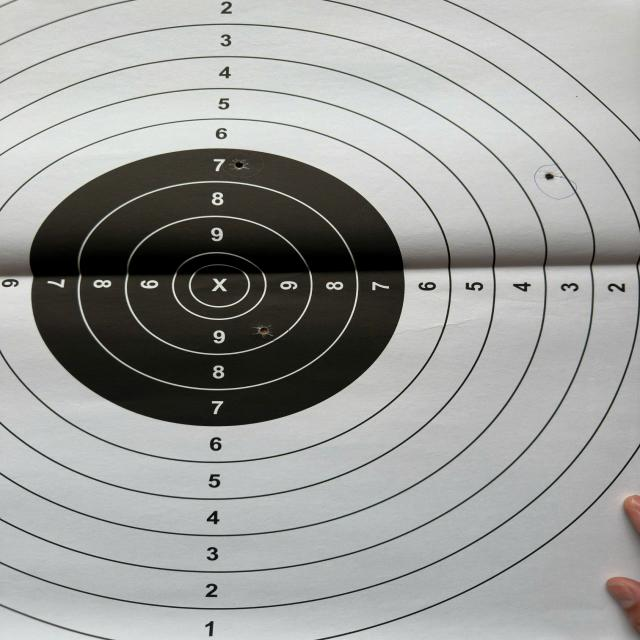bullet: (255, 326, 271, 337), (234, 159, 248, 170), (544, 172, 554, 180)
target: (0, 0, 640, 640)
